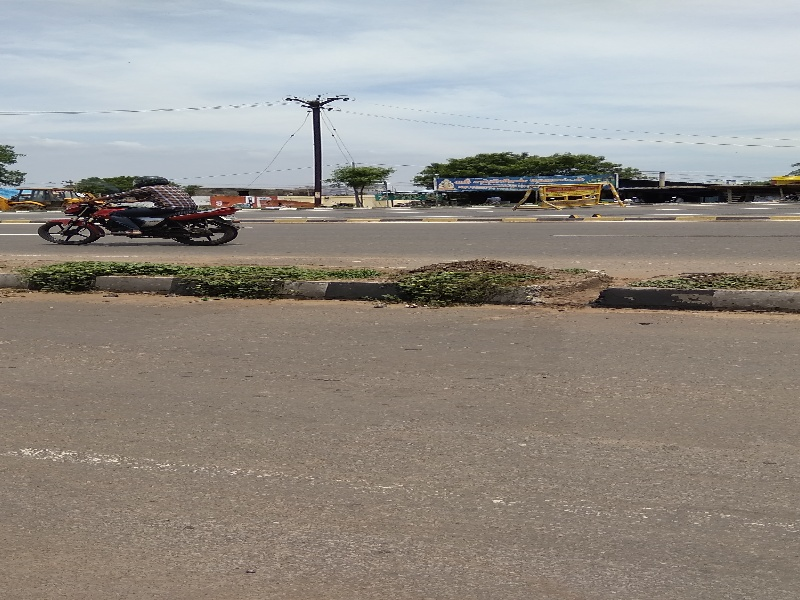biker: (29, 147, 251, 260)
helmet: (129, 169, 173, 192)
